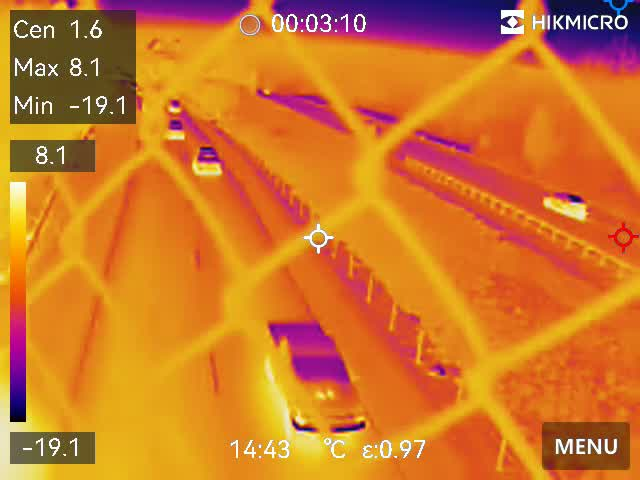lightTruck: (259, 316, 367, 442)
vehicle: (540, 189, 595, 222), (192, 141, 228, 178), (156, 118, 184, 141), (165, 97, 181, 115)
